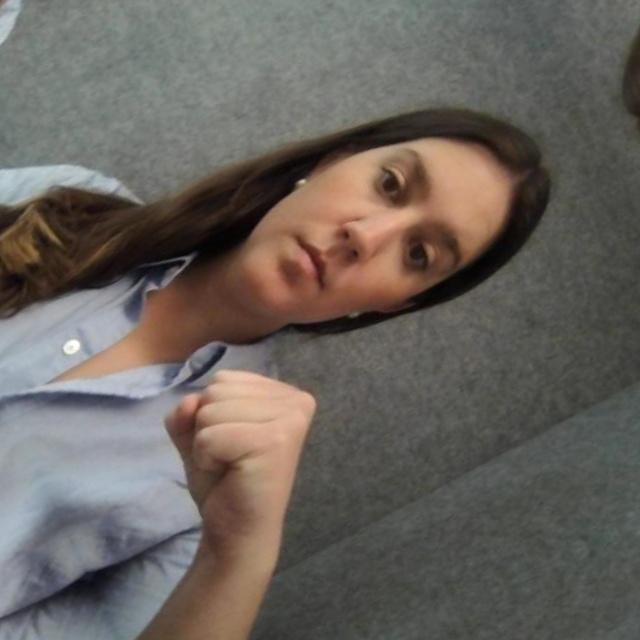Rock: (118, 325, 357, 583)
